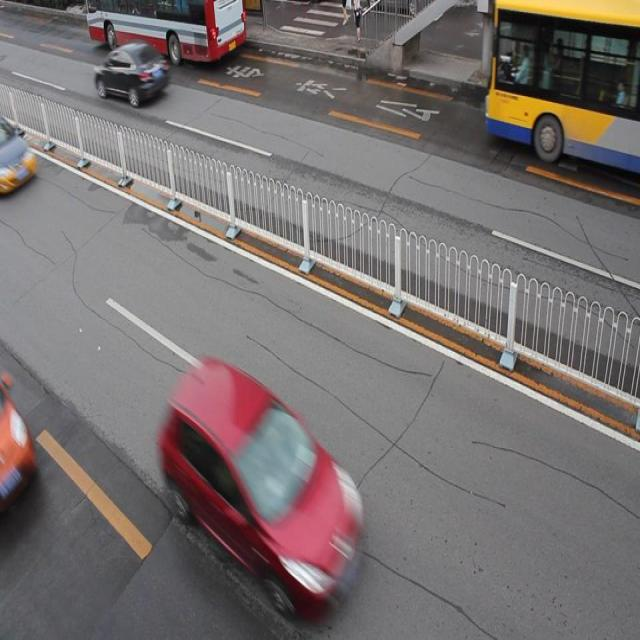car: (162, 354, 363, 608), (93, 39, 171, 108), (1, 386, 36, 505), (1, 118, 38, 196)
van: (484, 1, 640, 174), (88, 1, 247, 64)
